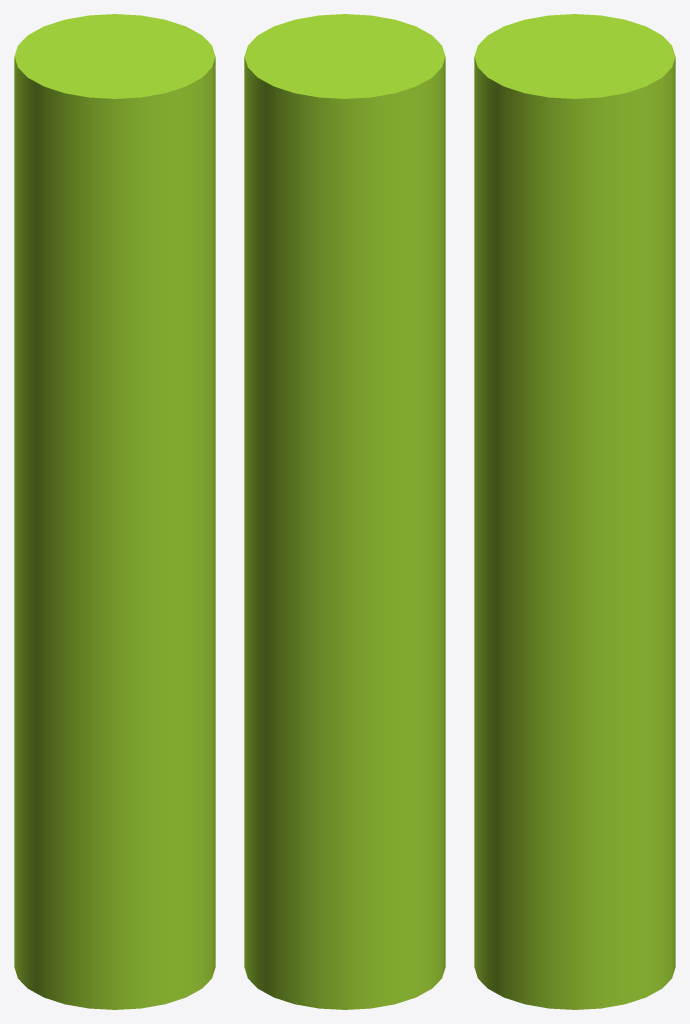
Rendered from Flag_Base.fbx.
The picture shows the model from 3 angles, left to right: view 1: azimuth 30°, elevation 25°; view 2: azimuth 150°, elevation 25°; view 3: azimuth 270°, elevation 25°; orthographic projection.
Visible parts, largest first — view 1: pCylinder4; view 2: pCylinder4; view 3: pCylinder4.
Boxes of the visible parts, x1=… form: pCylinder4: x1=14, y1=14, x2=215, y2=1009; pCylinder4: x1=244, y1=14, x2=445, y2=1009; pCylinder4: x1=474, y1=14, x2=675, y2=1009.
Size of the model in its own units: 0.2 by 1 by 0.2.
